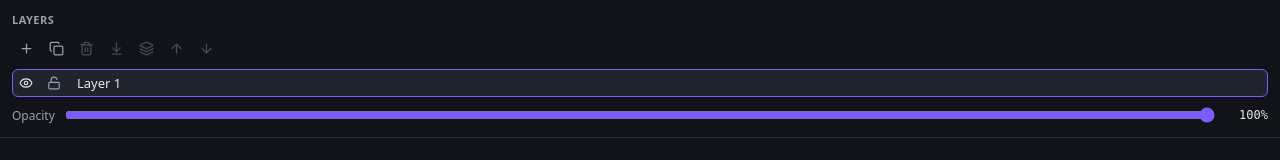
Test case: LayersPanel › toggles visibility and lock and reflects them in names and state
Click the button named "Hide Layer 1": {"x": 26, "y": 83} x1=13 y1=70 x2=39 y2=96
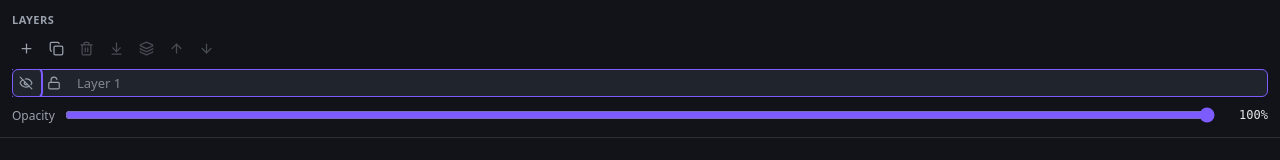
Click the button named "Lock Layer 1": {"x": 54, "y": 83} x1=41 y1=70 x2=67 y2=96
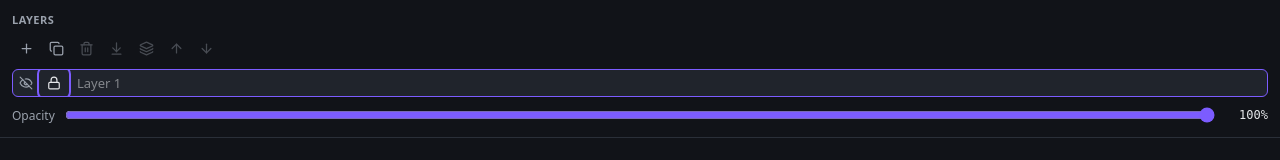
Check: the button with aria-label "Layer 1, locked, hidden" is shown, box x1=69 y1=70 x2=1267 y2=96
